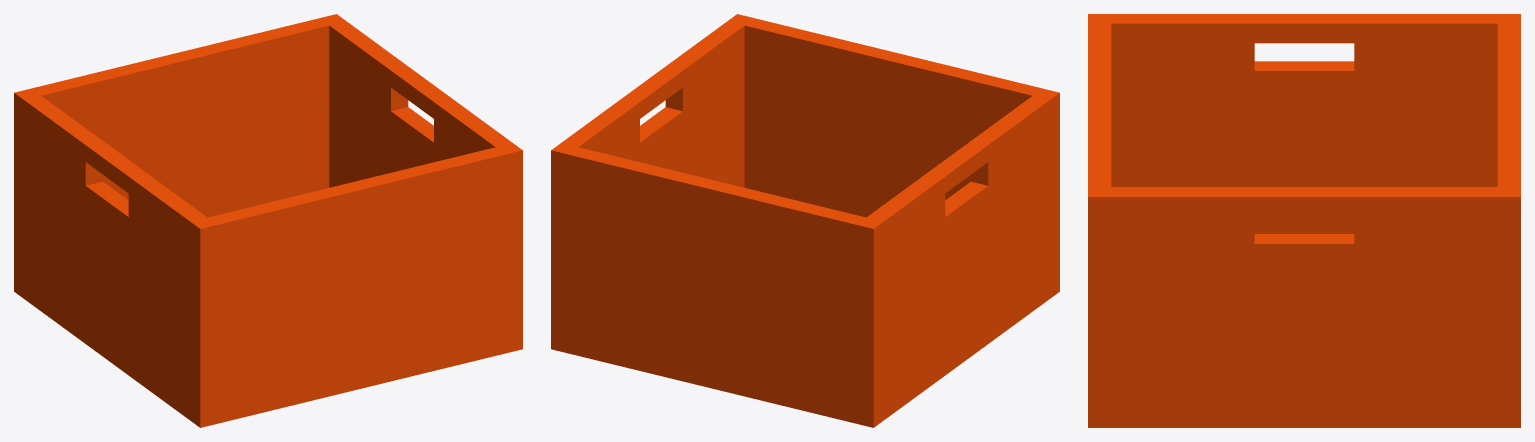
3 views of the same model, side by side, from view 1: azimuth 30°, elevation 25°; view 2: azimuth 150°, elevation 25°; view 3: azimuth 270°, elevation 25° (orthographic). The views are drawn at different scales.
Visible parts, largest first — view 1: Box_3; view 2: Box_3; view 3: Box_3.
Part boxes in pixels (x1=…): Box_3: x1=14, y1=14, x2=522, y2=427; Box_3: x1=551, y1=14, x2=1059, y2=427; Box_3: x1=1088, y1=14, x2=1520, y2=427.
Bounding box in the file's own units: 0.7418 × 0.4371 × 0.7418.
1 material, 1 textured.
